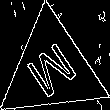M_SE: (21, 35, 82, 103)
